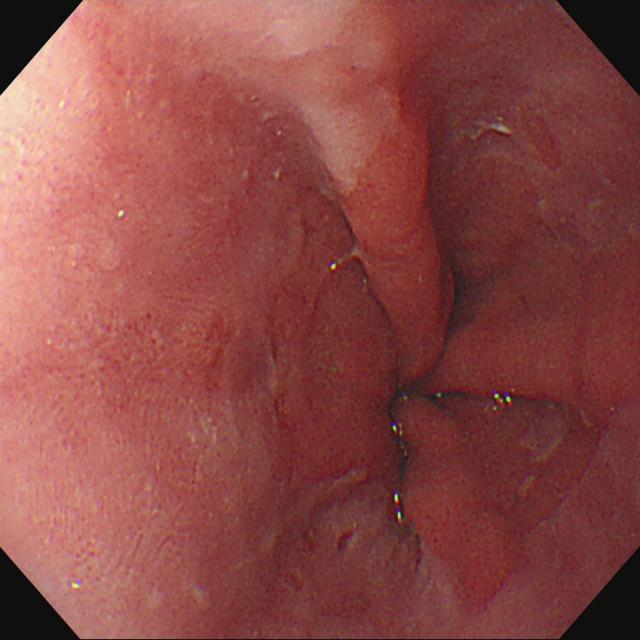I: (334, 224, 549, 542)
U: (492, 393, 514, 413), (393, 492, 405, 526)
